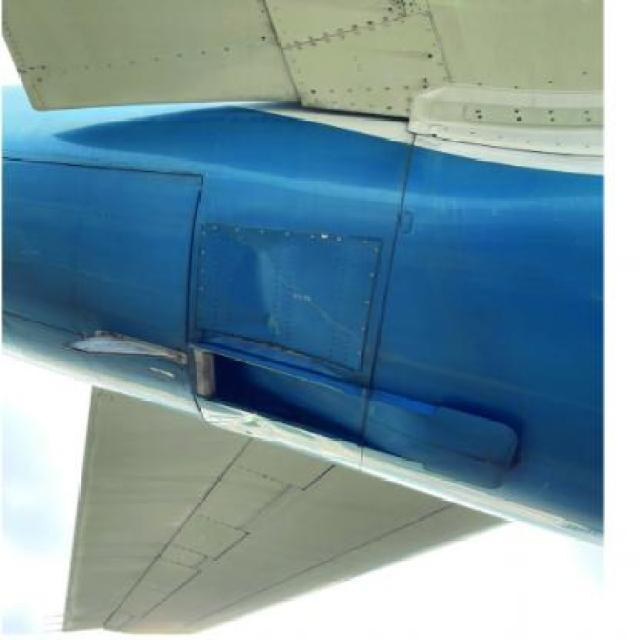dent: (238, 232, 297, 345)
